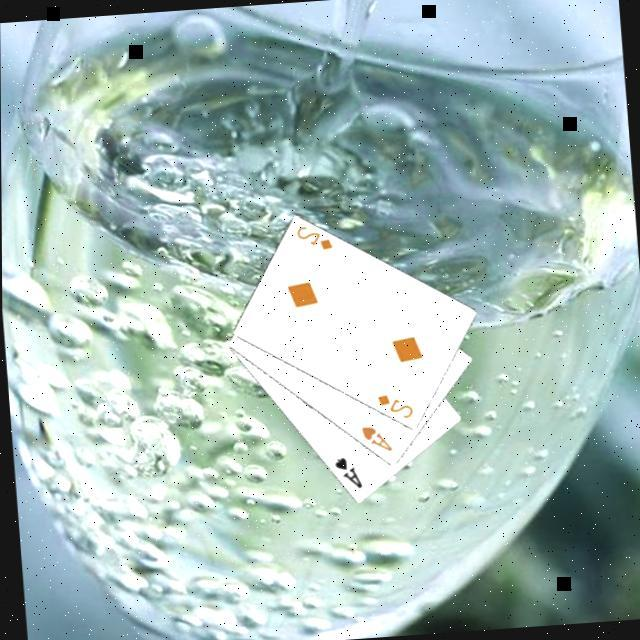2D: (373, 387, 416, 422), (292, 219, 335, 254)
AH: (357, 419, 395, 455)
AS: (330, 451, 365, 491)
